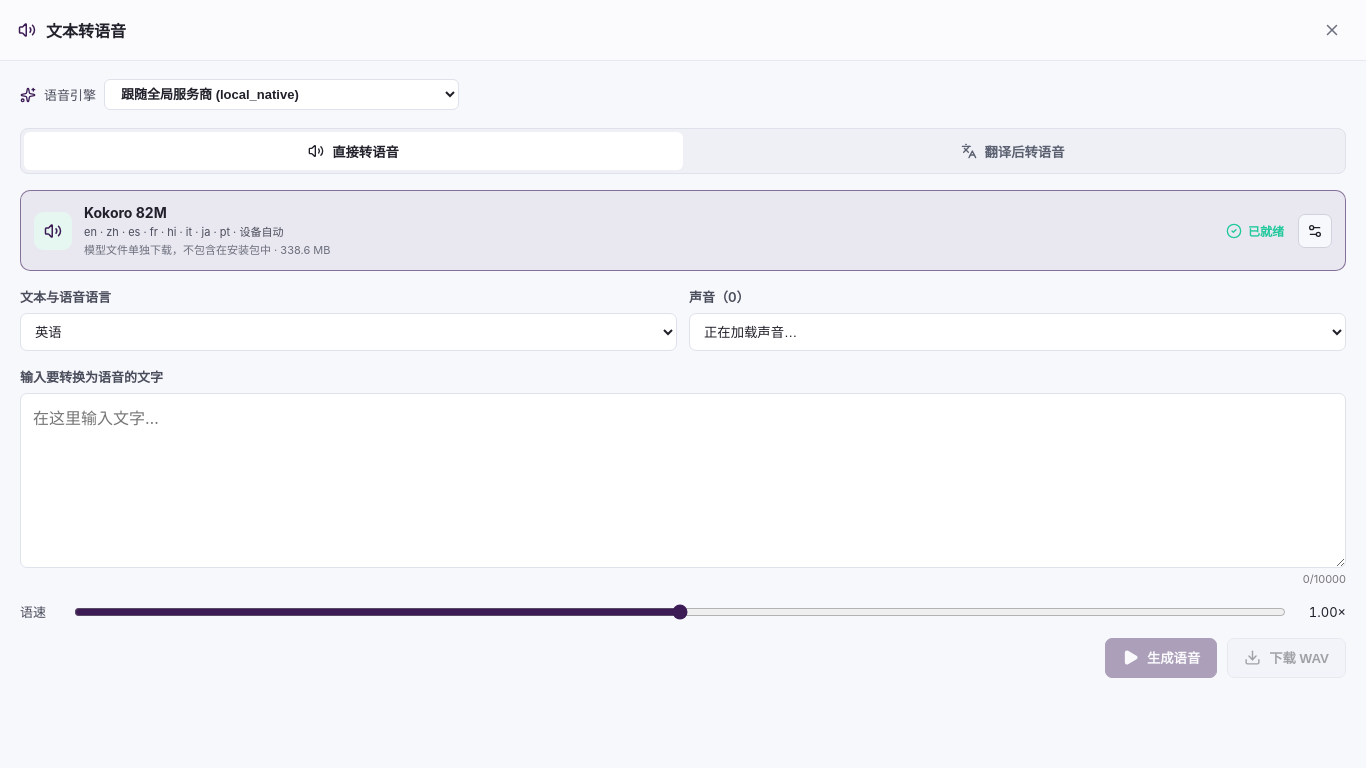
Test: TextToSpeechDialog modes › offers direct speech and translate-then-speech as explicit choices
Click the button "翻译后转语音" at (1012, 151), box [683,132,1342,170]
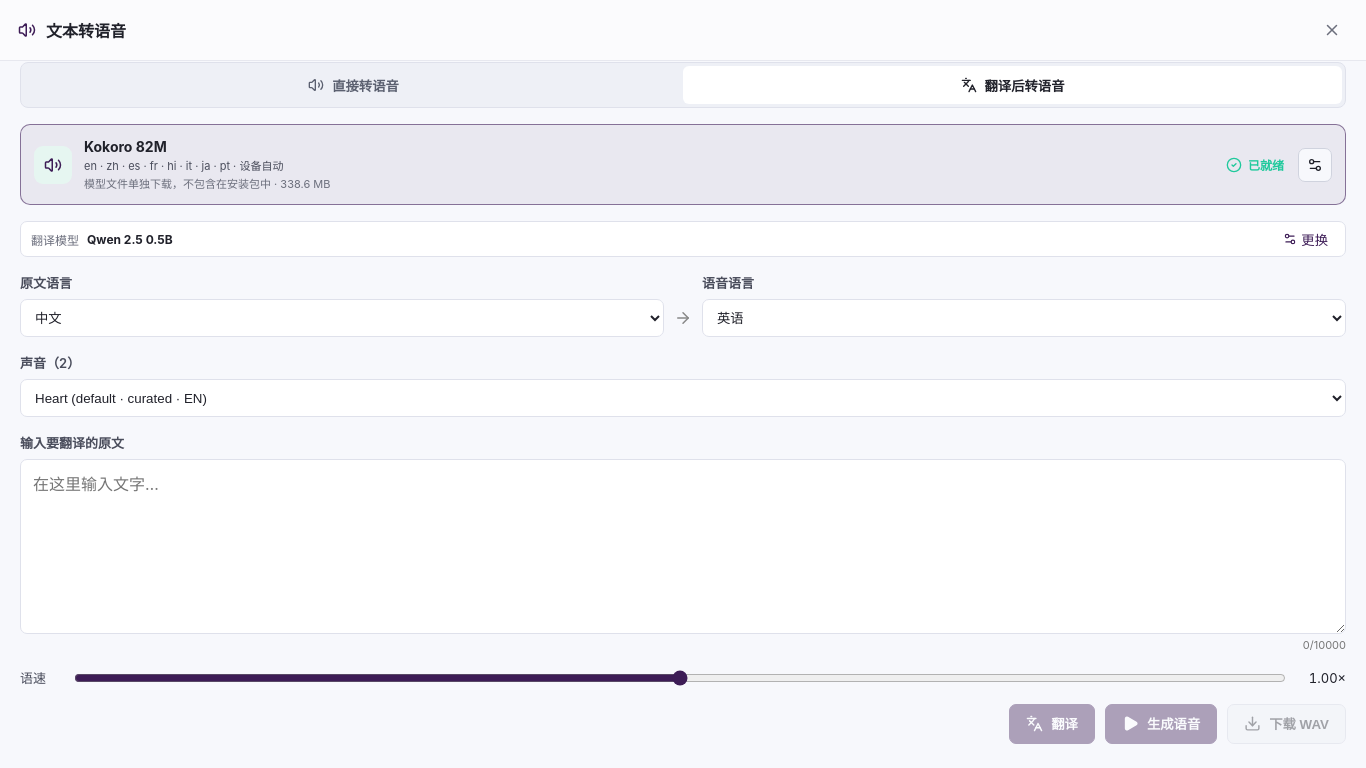
Expected: the text "原文语言" is shown, [20,275,72,291]
Expected: the text "Qwen 2.5 0.5B" is shown, [87,232,173,246]
Expected: the button "翻译" is shown, [1009,704,1095,744]
